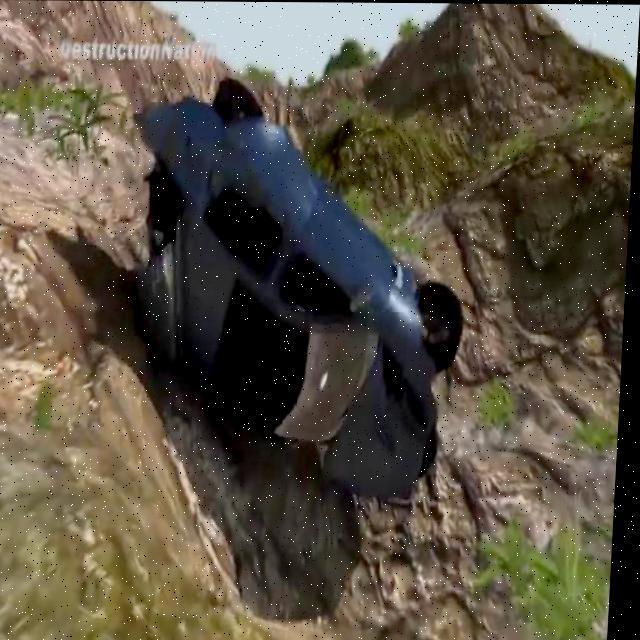single accident: (77, 83, 462, 541)
